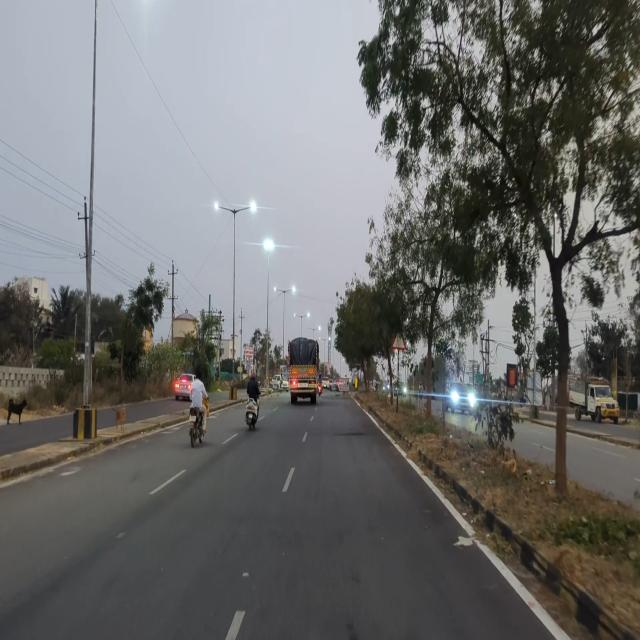bien_cam: (391, 333, 407, 349)
